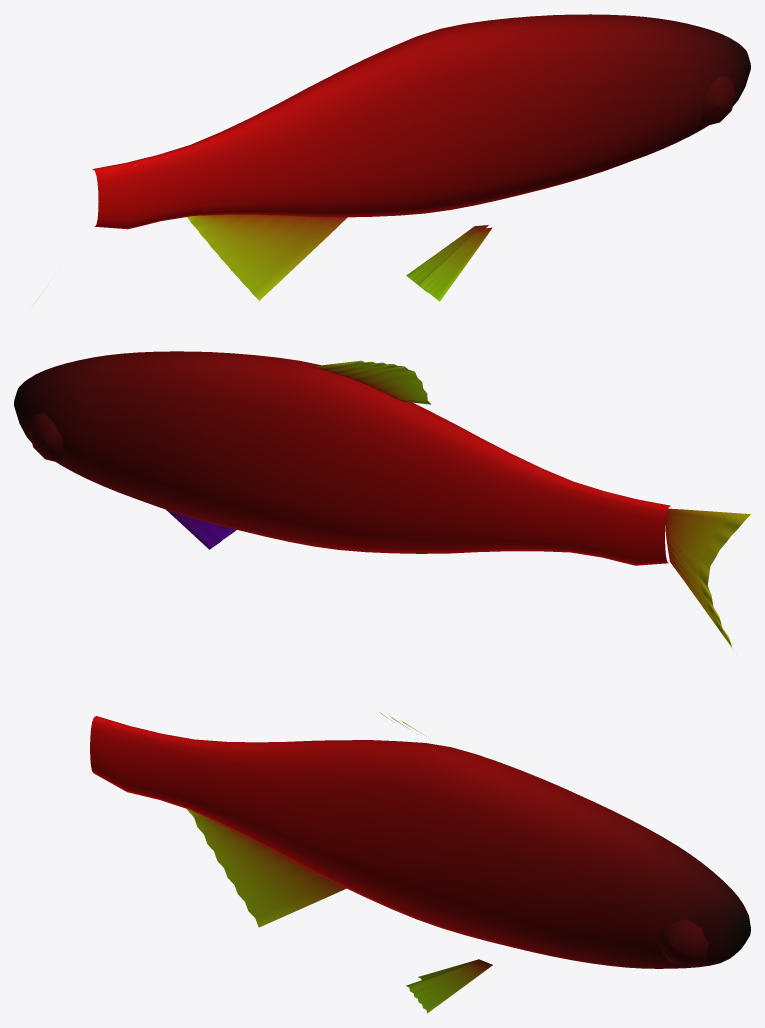
The model's file is cardinal_tetra.glb.
3 renders of one model, top to bottom at view 1: azimuth 30°, elevation 25°; view 2: azimuth 150°, elevation 25°; view 3: azimuth 330°, elevation 25°, orthographic.
Visible parts, largest first — view 1: body, eye; view 2: body, eye; view 3: body, eye.
Part boxes in pixels (x1=…): body: x1=32, y1=14, x2=750, y2=306; eye: x1=700, y1=75, x2=735, y2=126; body: x1=14, y1=351, x2=750, y2=650; eye: x1=28, y1=412, x2=64, y2=463; body: x1=90, y1=712, x2=750, y2=1013; eye: x1=659, y1=919, x2=708, y2=966.
Bounding box in the file's own units: 0.087 × 0.0321 × 0.00986.
